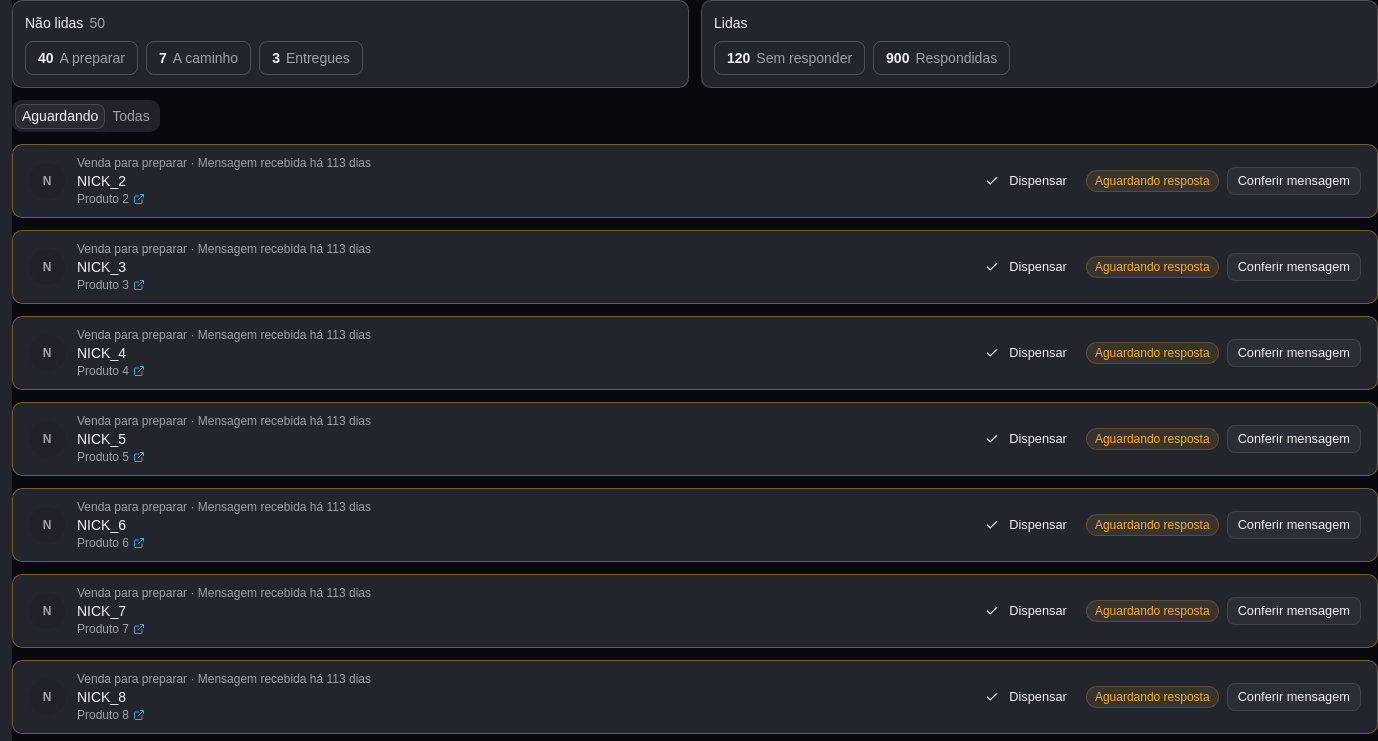
Scenario: AbaMensagens › quando responderMensagem falha com erro de pedido cancelado: exibe toast.info, marca cancelada localmente e invalida queries
The image size is (1378, 741).
Click the button "Conferir mensagem" in the row of "Produto 2": (1294, 181) left=1227, top=167, right=1361, bottom=195
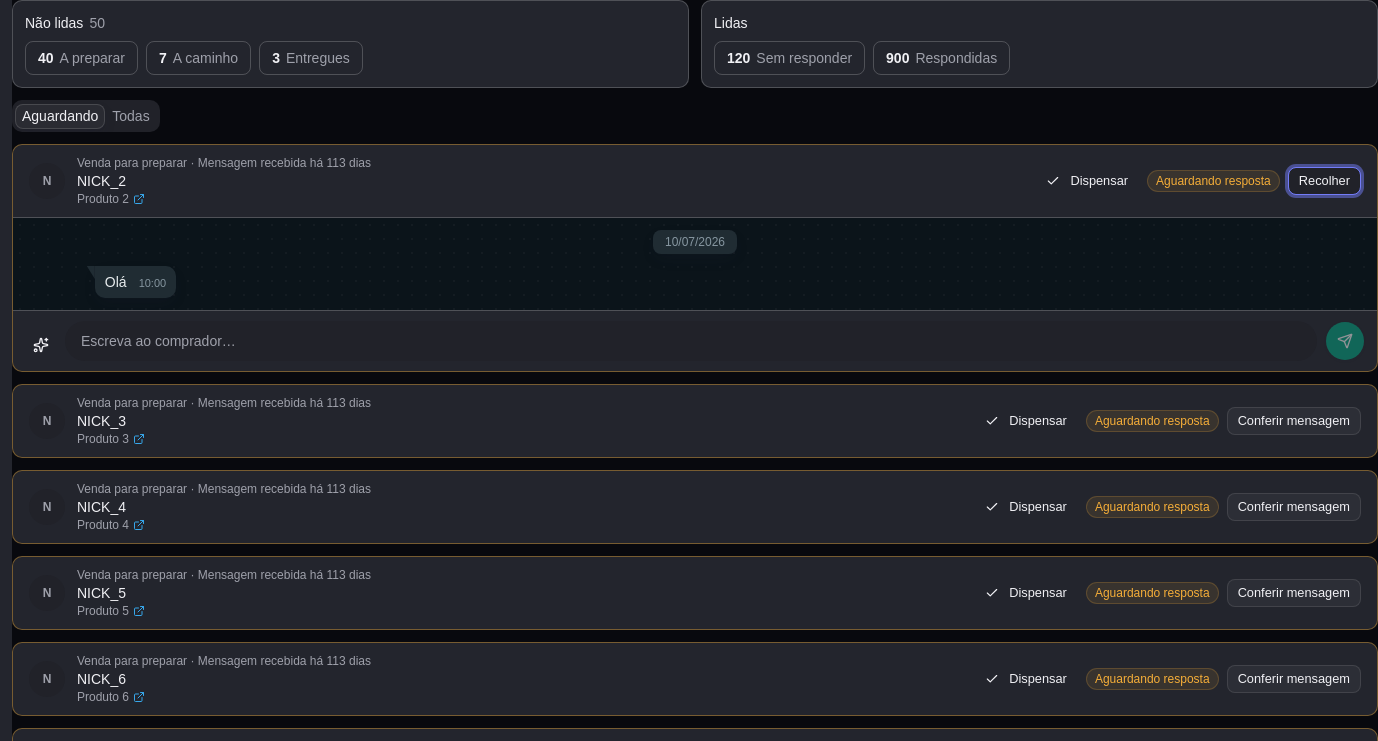
In the text box with placeholder "Escreva ao comprador…": (691, 341) left=65, top=321, right=1317, bottom=361, type "Mensagem de teste"
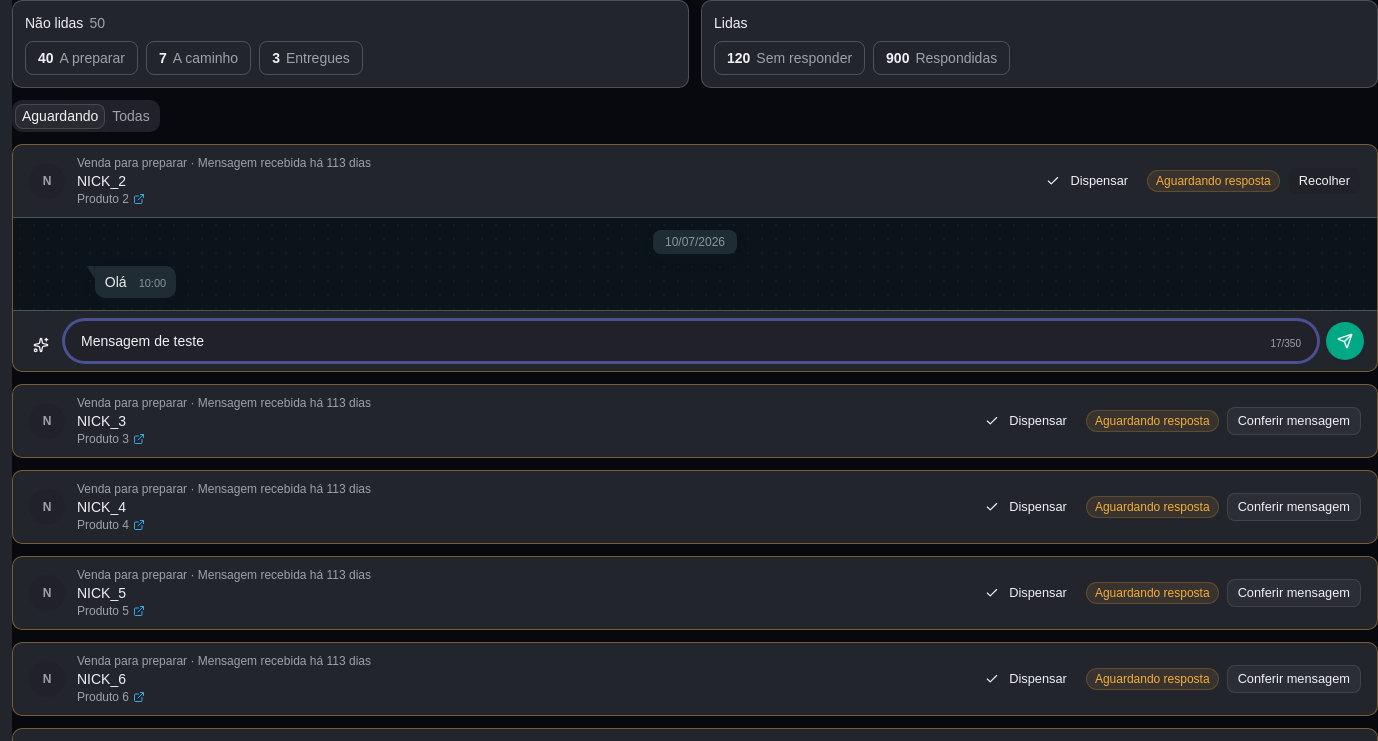
Now the button named "responder" is enabled
Click the button named "responder": (1345, 341) left=1325, top=321, right=1365, bottom=361
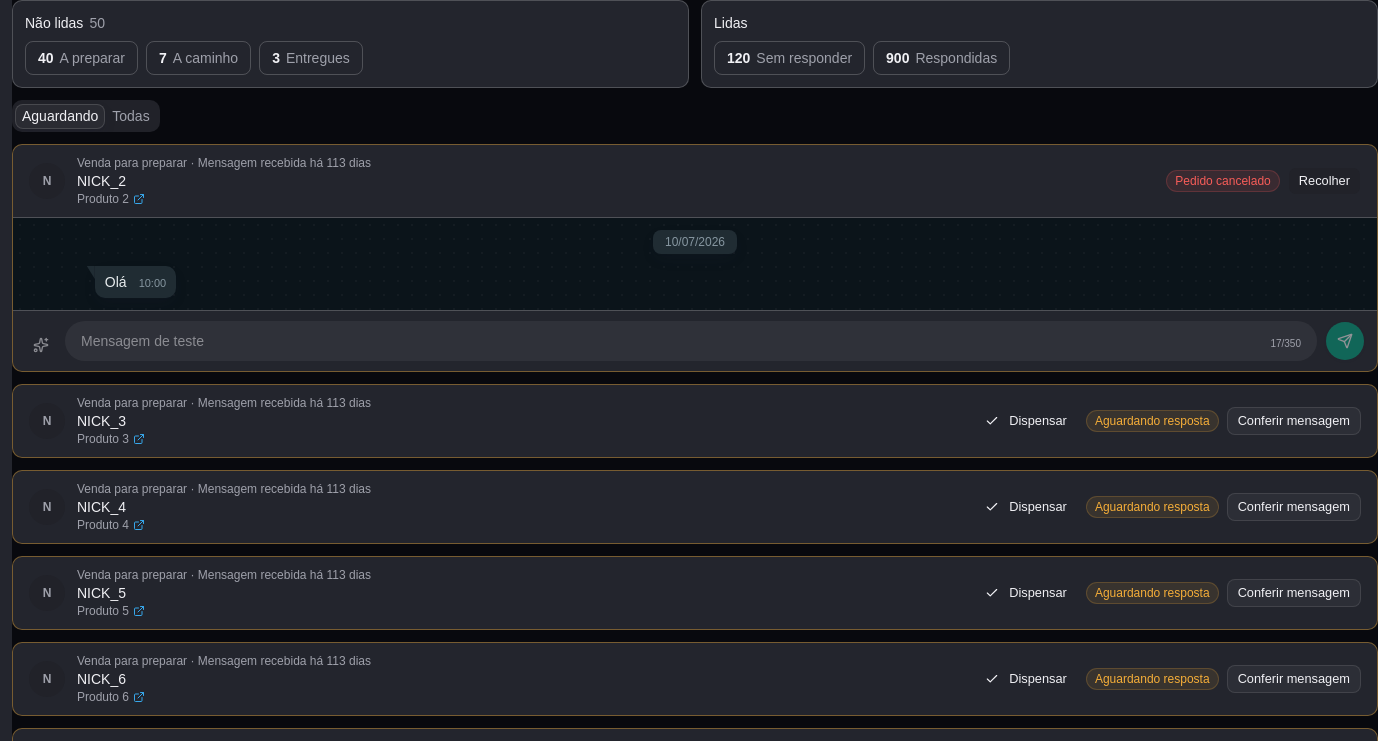
Now the text "Pedido cancelado" is shown, box left=1166, top=170, right=1280, bottom=192
Now the text box with placeholder "Escreva ao comprador…" is disabled, box left=65, top=321, right=1317, bottom=361
Now the button named "responder" is disabled, box left=1325, top=321, right=1365, bottom=361
